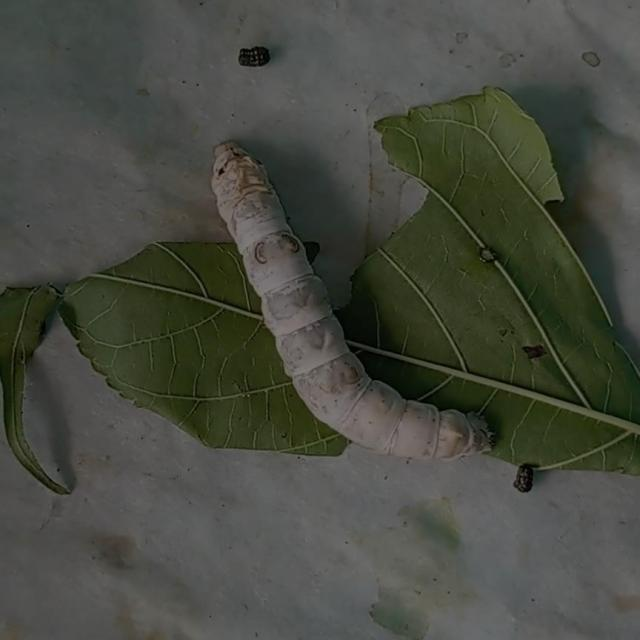Grasserie: (175, 122, 537, 489)
